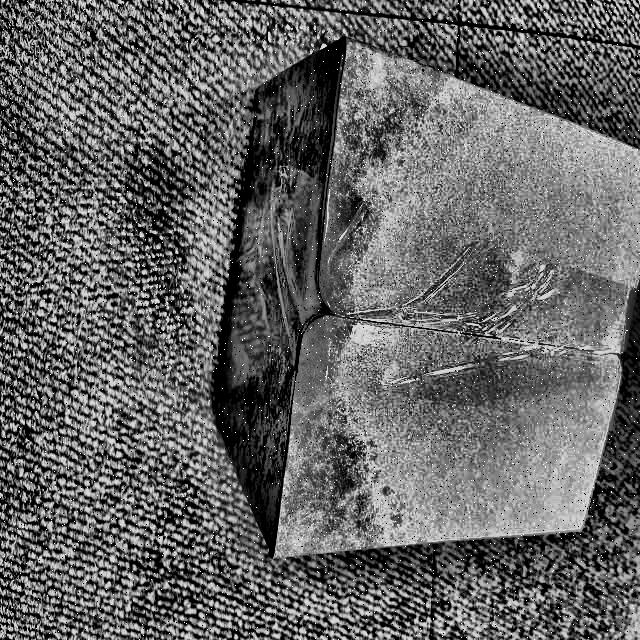box: (205, 32, 640, 562)
wet: (238, 42, 457, 246), (171, 380, 404, 570)
